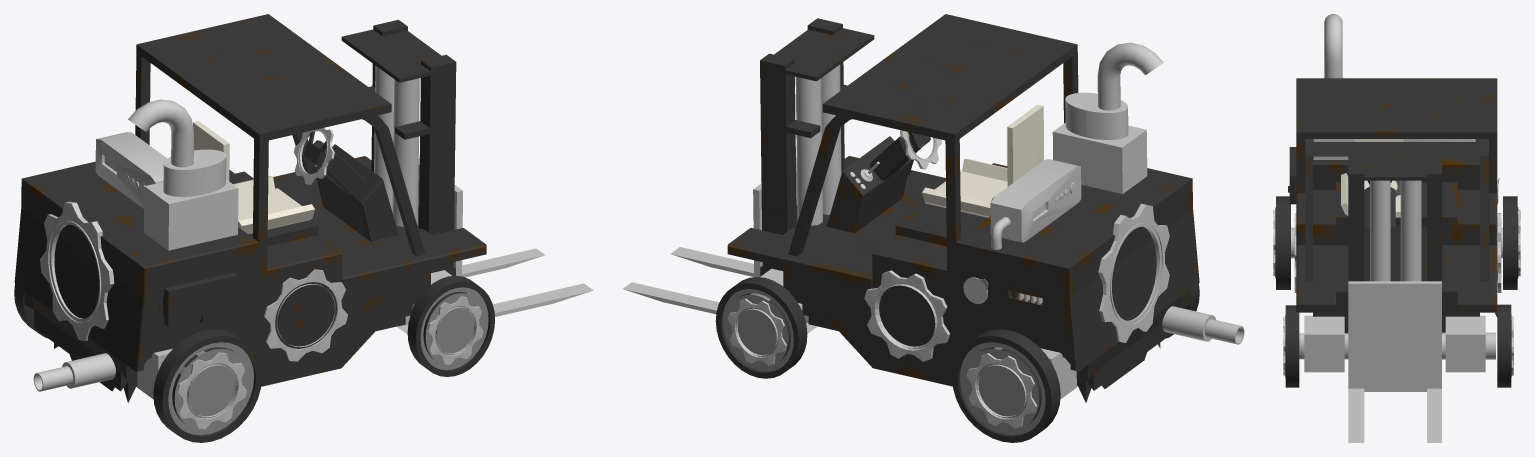
File: FM-010 ForkLift.fbx
The picture shows the model from 3 angles, left to right: view 1: azimuth 30°, elevation 25°; view 2: azimuth 150°, elevation 25°; view 3: azimuth 270°, elevation 25°; orthographic projection. The views are drawn at different scales.
Visible parts, largest first — view 1: FM-010 Forklift; view 2: FM-010 Forklift; view 3: FM-010 Forklift.
Boxes of the visible parts, x1,y1,x2,y2 form: FM-010 Forklift: [14, 14, 593, 442]; FM-010 Forklift: [623, 14, 1244, 442]; FM-010 Forklift: [1273, 14, 1520, 442].
Bounding box in the file's own units: 478 × 261 × 225.
